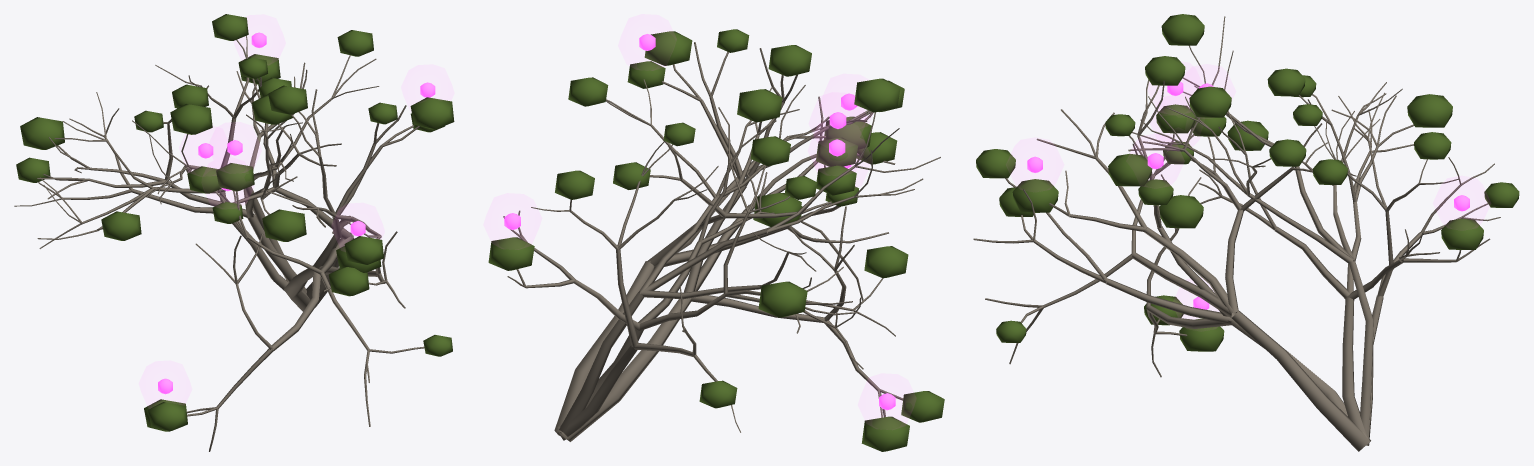
The model's file is desert_brush_2.glb.
3 views of the same model, side by side, from view 1: azimuth 30°, elevation 25°; view 2: azimuth 150°, elevation 25°; view 3: azimuth 270°, elevation 25° (orthographic). The views are drawn at different scales.
Parts seen in each view (by area): view 1: DesertBrush_Twigs, DesertBrush_Leaves_6, DesertBrush_Leaves_1, DesertBrush_Leaves_17, DesertBrush_Leaves_2, DesertBrush_Leaves_23, DesertBrush_Leaves_7, DesertBrush_Leaves_11, DesertBrush_Leaves_21, DesertBrush_Leaves_5, DesertBrush_Leaves_0, DesertBrush_Leaves_3 (+12 smaller); view 2: DesertBrush_Twigs, DesertBrush_Leaves_6, DesertBrush_Leaves_8, DesertBrush_Leaves_2, DesertBrush_Leaves_12, DesertBrush_Leaves_19, DesertBrush_Leaves_17, DesertBrush_Leaves_23, DesertBrush_Leaves_11, DesertBrush_Leaves_21, DesertBrush_Leaves_15, DesertBrush_Leaves_1 (+12 smaller); view 3: DesertBrush_Twigs, DesertBrush_Leaves_6, DesertBrush_Leaves_4, DesertBrush_Leaves_1, DesertBrush_Leaves_17, DesertBrush_Leaves_2, DesertBrush_Leaves_12, DesertBrush_Leaves_19, DesertBrush_Leaves_21, DesertBrush_Leaves_5, DesertBrush_Leaves_8, DesertBrush_Leaves_0 (+11 smaller).
Part boxes in pixels (bbox=[...]): DesertBrush_Twigs: bbox=[14, 35, 424, 451]; DesertBrush_Leaves_6: bbox=[20, 117, 64, 149]; DesertBrush_Leaves_1: bbox=[262, 209, 306, 241]; DesertBrush_Leaves_17: bbox=[410, 97, 454, 129]; DesertBrush_Leaves_2: bbox=[170, 104, 212, 134]; DesertBrush_Leaves_23: bbox=[101, 211, 141, 240]; DesertBrush_Leaves_7: bbox=[328, 267, 369, 296]; DesertBrush_Leaves_11: bbox=[148, 402, 187, 431]; DesertBrush_Leaves_21: bbox=[268, 85, 307, 114]; DesertBrush_Leaves_5: bbox=[344, 236, 383, 264]; DesertBrush_Leaves_0: bbox=[216, 163, 254, 191]; DesertBrush_Leaves_3: bbox=[212, 14, 248, 40]; DesertBrush_Twigs: bbox=[503, 42, 940, 441]; DesertBrush_Leaves_6: bbox=[758, 281, 807, 317]; DesertBrush_Leaves_8: bbox=[861, 416, 909, 451]; DesertBrush_Leaves_2: bbox=[854, 78, 900, 112]; DesertBrush_Leaves_12: bbox=[488, 237, 534, 270]; DesertBrush_Leaves_19: bbox=[737, 89, 782, 122]; DesertBrush_Leaves_17: bbox=[644, 31, 692, 65]; DesertBrush_Leaves_23: bbox=[864, 246, 908, 278]; DesertBrush_Leaves_11: bbox=[901, 391, 944, 422]; DesertBrush_Leaves_21: bbox=[768, 45, 811, 76]; DesertBrush_Leaves_15: bbox=[750, 136, 790, 165]; DesertBrush_Leaves_1: bbox=[753, 193, 801, 226]; DesertBrush_Twigs: bbox=[973, 16, 1500, 451]; DesertBrush_Leaves_6: bbox=[1407, 94, 1452, 127]; DesertBrush_Leaves_4: bbox=[1012, 179, 1058, 212]; DesertBrush_Leaves_1: bbox=[1159, 195, 1203, 228]; DesertBrush_Leaves_17: bbox=[1108, 153, 1152, 186]; DesertBrush_Leaves_2: bbox=[1161, 14, 1204, 45]; DesertBrush_Leaves_12: bbox=[1441, 218, 1483, 249]; DesertBrush_Leaves_19: bbox=[1189, 86, 1231, 117]; DesertBrush_Leaves_21: bbox=[1145, 56, 1185, 85]; DesertBrush_Leaves_5: bbox=[976, 149, 1015, 178]; DesertBrush_Leaves_8: bbox=[1179, 318, 1224, 351]; DesertBrush_Leaves_0: bbox=[1156, 104, 1195, 133].
Size of the model in its own units: 0.7037 by 0.6966 by 0.9515.
